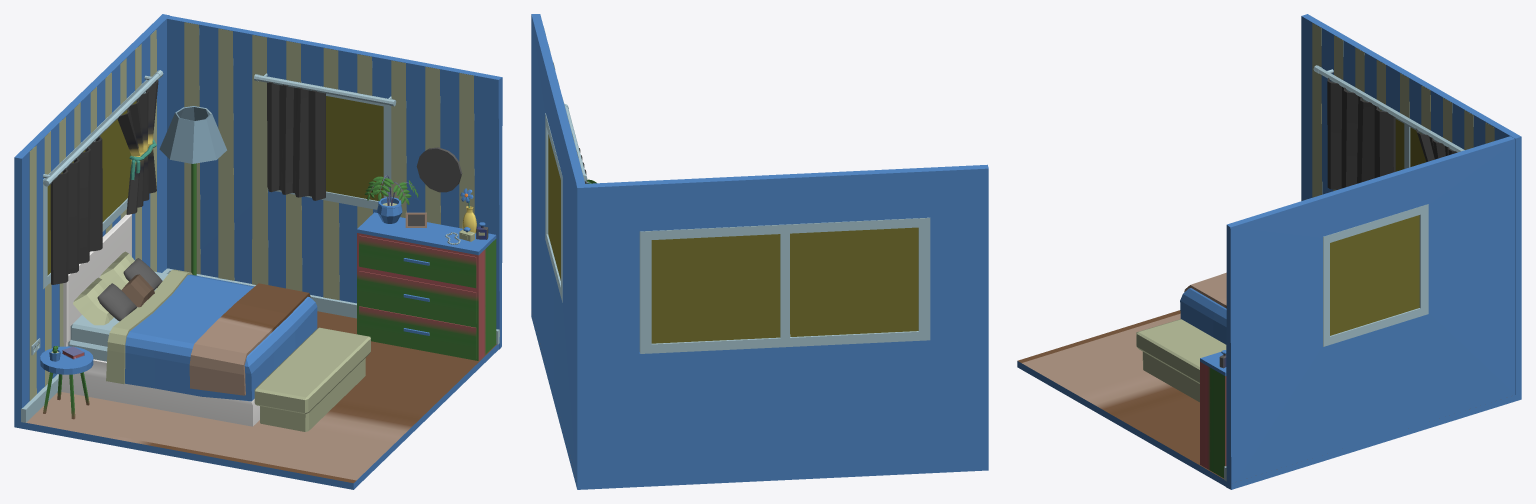
File: Bedroom_2.fbx
3 renders of one model, left to right at view 1: azimuth 30°, elevation 25°; view 2: azimuth 150°, elevation 25°; view 3: azimuth 270°, elevation 25°, orthographic. The views are drawn at different scales.
Parts seen in each view (by area): view 1: Bedroom_2_Base, Bedroom_2_Stripes, Bedroom_2_Bedroom_Bed, Bedroom_2_Cabinet, Bedroom_2_Ottoman, Bedroom_2_Window_2, Bedroom_2_Curtain_3, Bedroom_2_Curtain_2, Bedroom_2_Pillows, Bedroom_2_Window, Bedroom_2_Lamp, Bedroom_2_Curtain_1 (+6 smaller); view 2: Bedroom_2_Base, Bedroom_2_Window, Bedroom_2_Window_2; view 3: Bedroom_2_Base, Bedroom_2_Window_2, Bedroom_2_Curtain_2, Bedroom_2_Stripes, Bedroom_2_Ottoman, Bedroom_2_Cabinet, Bedroom_2_Bedroom_Bed, Bedroom_2_Window, Bedroom_2_Cornice, Bedroom_2_Curtain_1.
Boxes of the visible parts, bbox=[...] form: Bedroom_2_Base: bbox=[14, 14, 502, 489]; Bedroom_2_Stripes: bbox=[29, 22, 474, 400]; Bedroom_2_Bedroom_Bed: bbox=[58, 214, 317, 426]; Bedroom_2_Cabinet: bbox=[357, 212, 496, 360]; Bedroom_2_Ottoman: bbox=[254, 327, 370, 431]; Bedroom_2_Window_2: bbox=[267, 76, 391, 209]; Bedroom_2_Curtain_3: bbox=[267, 82, 325, 200]; Bedroom_2_Curtain_2: bbox=[50, 136, 102, 284]; Bedroom_2_Pillows: bbox=[73, 251, 162, 325]; Bedroom_2_Window: bbox=[43, 79, 147, 289]; Bedroom_2_Lamp: bbox=[159, 106, 226, 275]; Bedroom_2_Curtain_1: bbox=[117, 79, 158, 214]; Bedroom_2_Base: bbox=[531, 14, 988, 489]; Bedroom_2_Window: bbox=[639, 217, 930, 353]; Bedroom_2_Window_2: bbox=[545, 113, 562, 302]; Bedroom_2_Base: bbox=[1017, 14, 1521, 489]; Bedroom_2_Window_2: bbox=[1323, 204, 1428, 346]; Bedroom_2_Curtain_2: bbox=[1327, 78, 1395, 189]; Bedroom_2_Stripes: bbox=[1312, 23, 1494, 197]; Bedroom_2_Ottoman: bbox=[1136, 319, 1226, 402]; Bedroom_2_Cabinet: bbox=[1200, 352, 1226, 478]; Bedroom_2_Bedroom_Bed: bbox=[1180, 272, 1226, 344]; Bedroom_2_Window: bbox=[1331, 80, 1453, 171]; Bedroom_2_Cornice: bbox=[1313, 65, 1464, 152]; Bedroom_2_Curtain_1: bbox=[1415, 128, 1457, 161].
Size of the model in its own units: 699 by 402 by 699.
